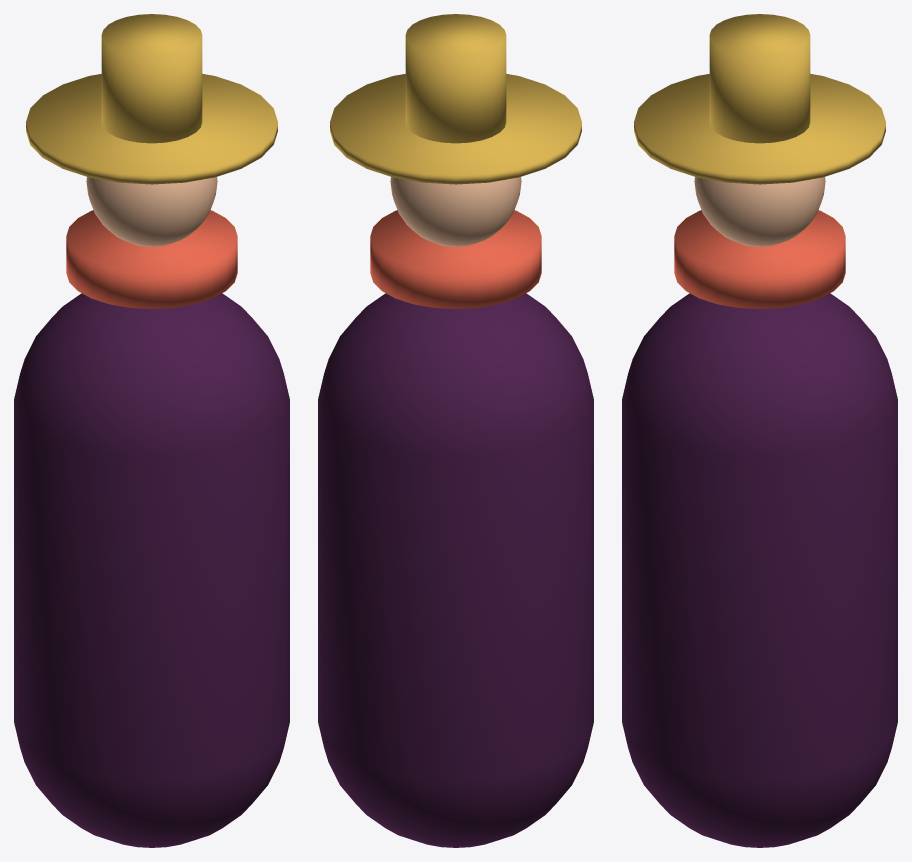
File: SM_Npc_OttilieVane.fbx
The picture shows the model from 3 angles, left to right: view 1: azimuth 30°, elevation 25°; view 2: azimuth 150°, elevation 25°; view 3: azimuth 270°, elevation 25°; orthographic projection.
Visible parts, largest first — view 1: Coat, Hat_Brim, Hat_Crown, Scarf, Head; view 2: Coat, Hat_Brim, Hat_Crown, Scarf, Head; view 3: Coat, Hat_Brim, Hat_Crown, Scarf, Head.
Boxes of the visible parts, <box> form: Coat: <box>14,293,289,847</box>; Hat_Brim: <box>26,74,277,184</box>; Hat_Crown: <box>101,14,202,143</box>; Scarf: <box>66,210,237,308</box>; Head: <box>86,177,217,246</box>; Coat: <box>318,293,593,847</box>; Hat_Brim: <box>330,74,581,184</box>; Hat_Crown: <box>405,14,506,143</box>; Scarf: <box>370,210,541,308</box>; Head: <box>390,177,521,246</box>; Coat: <box>622,293,897,847</box>; Hat_Brim: <box>634,74,885,184</box>; Hat_Crown: <box>709,14,810,143</box>; Scarf: <box>674,210,845,308</box>; Head: <box>694,177,825,246</box>.
Size of the model in its own units: 0.547 by 1.75 by 0.547.
